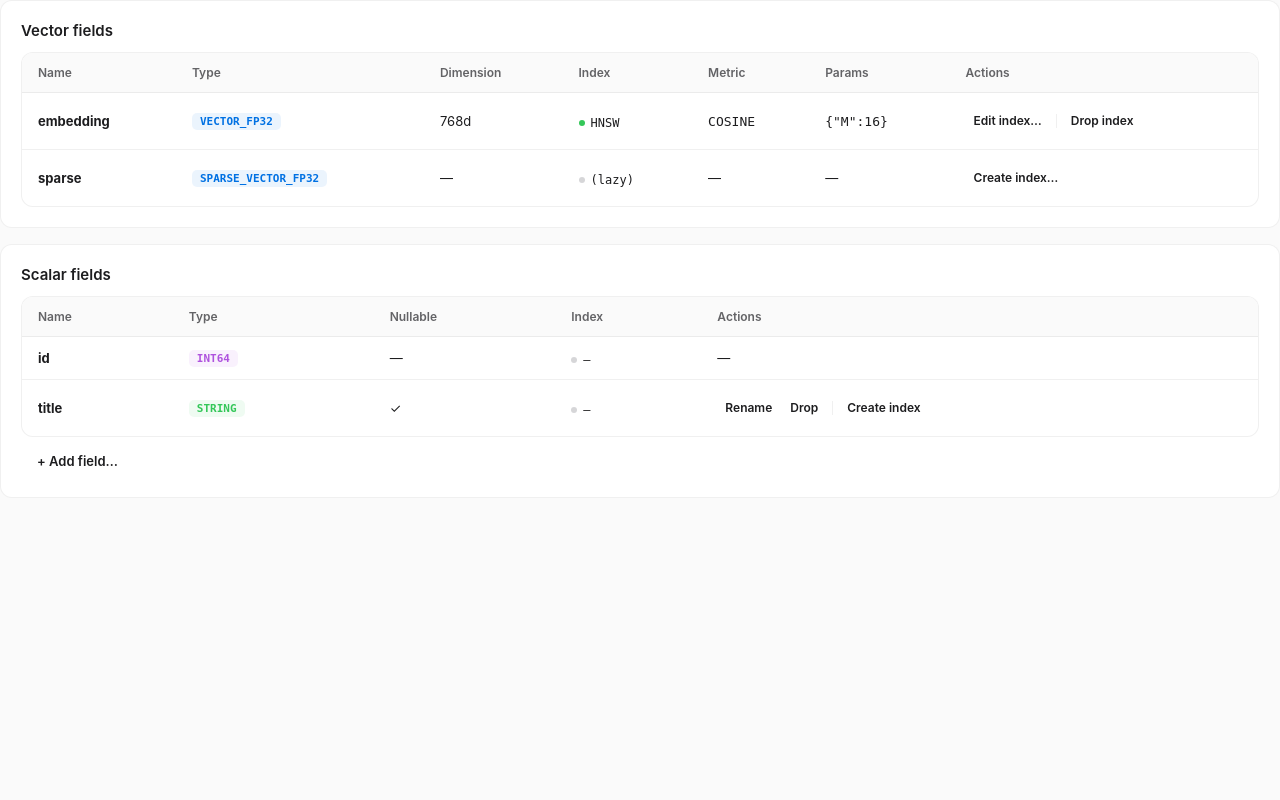
Test: SchemaPanelDdl › opens the Add field dialog
The width and height of the screenshot is (1280, 800).
Click the button with test id "zv-schema-add-field" at (78, 461), box left=21, top=445, right=134, bottom=477
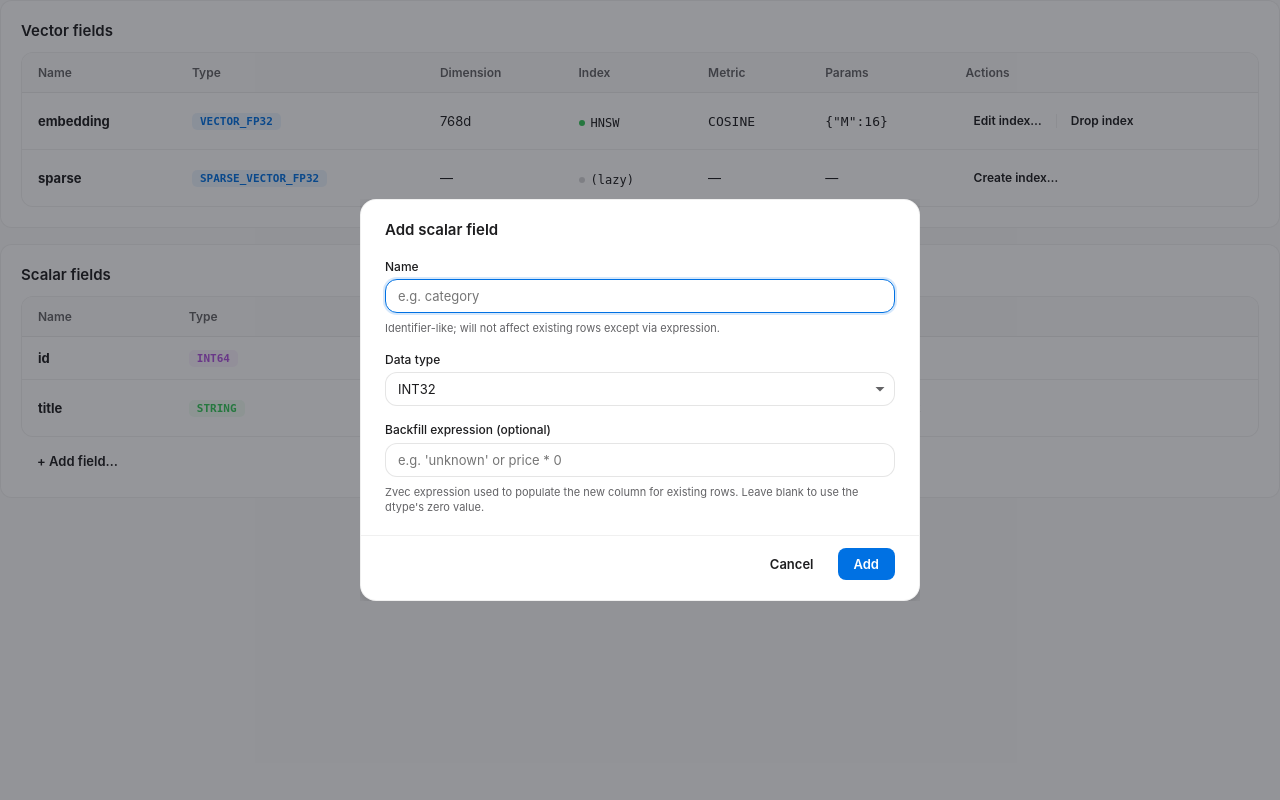
expect the field with test id "zv-schema-add-field-name" is shown: met, box left=385, top=279, right=895, bottom=313
expect the dropdown with test id "zv-schema-add-field-type" is shown: met, box left=385, top=372, right=895, bottom=406
expect the button with test id "zv-schema-add-field-submit" is shown: met, box left=838, top=548, right=895, bottom=580
